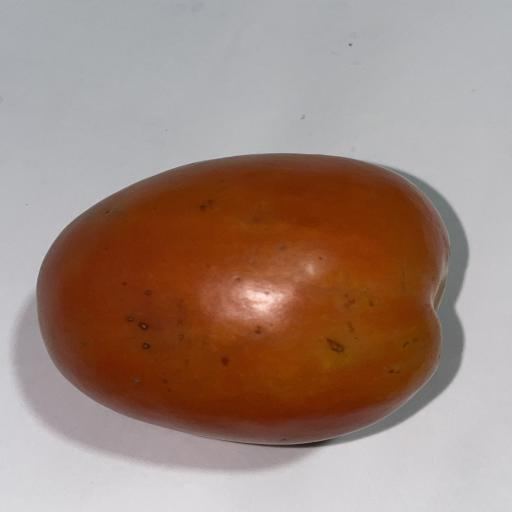ripe: (37, 154, 450, 444)
